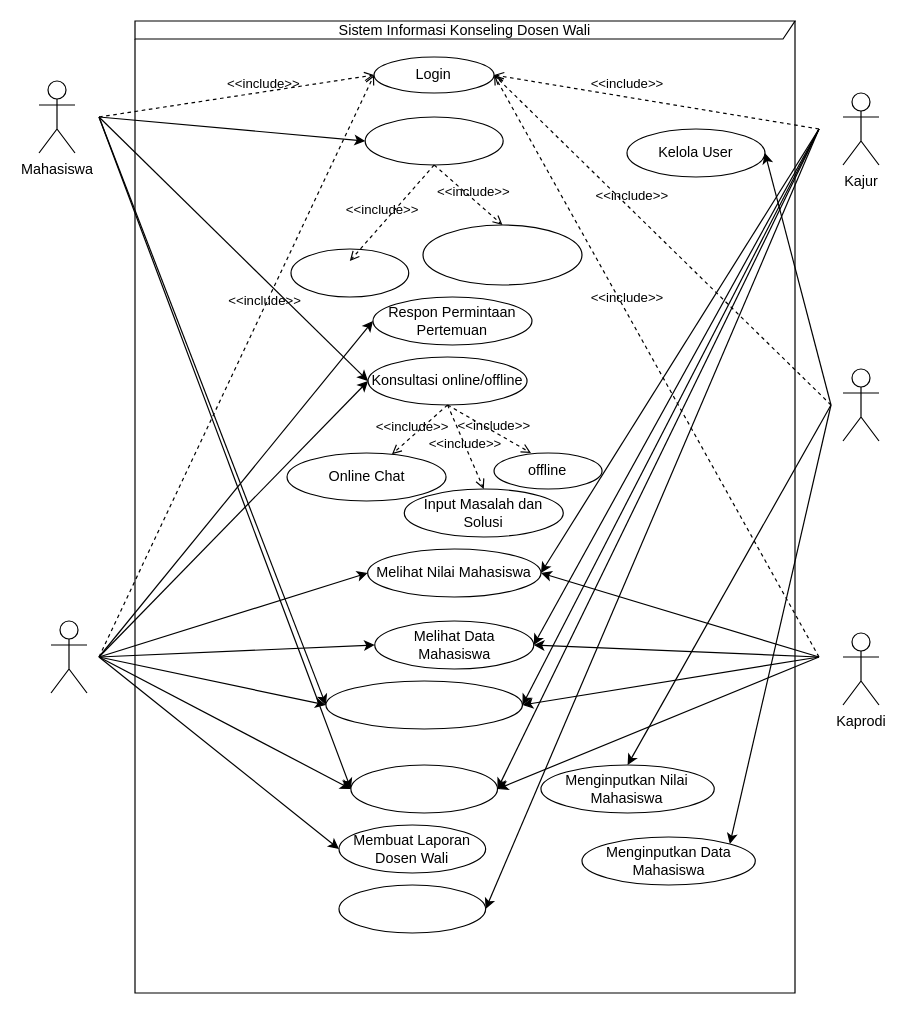
This 923x1014 diagram has some shape labels left out. The shapes that lost their labels are listed below. From the top down, each one's centre as x and y in pixels, then its label:
At pixel 433 140: "Membuat Jadwal Pertemuan".
At pixel 349 272: "Mahasiswa Memilih Topik Konseling".
At pixel 502 254: "Memilih Metode Konsultasi Online /Offline".
At pixel 860 404: "Super Admin".
At pixel 68 656: "Dosen Wali".
At pixel 423 704: "Melihat Riwayat Konsultasi".
At pixel 424 788: "Mengelola Berkas Pembayaran UKT".
At pixel 412 908: "Melihat Laporan Dosen Wali".
